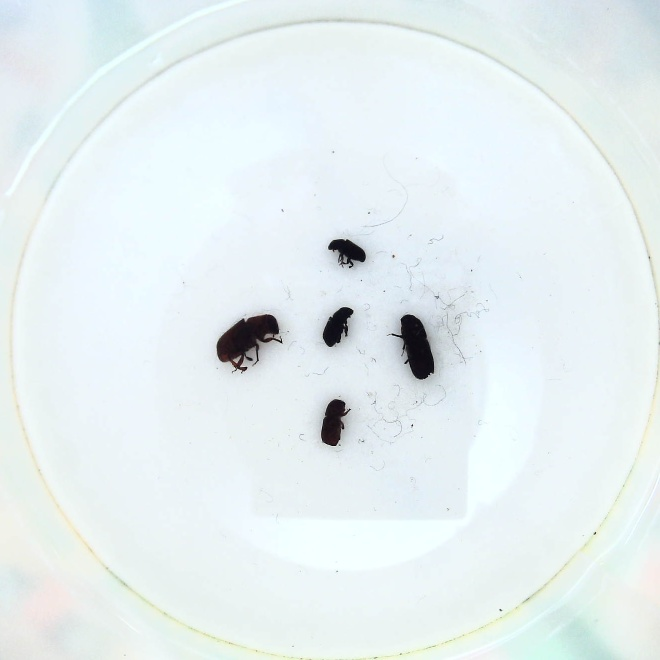armandi: (319, 305, 357, 351)
boerner: (390, 313, 439, 382)
coleoptera: (325, 238, 368, 272)
leconte: (214, 311, 285, 372)
linnaeus: (319, 395, 352, 450)
